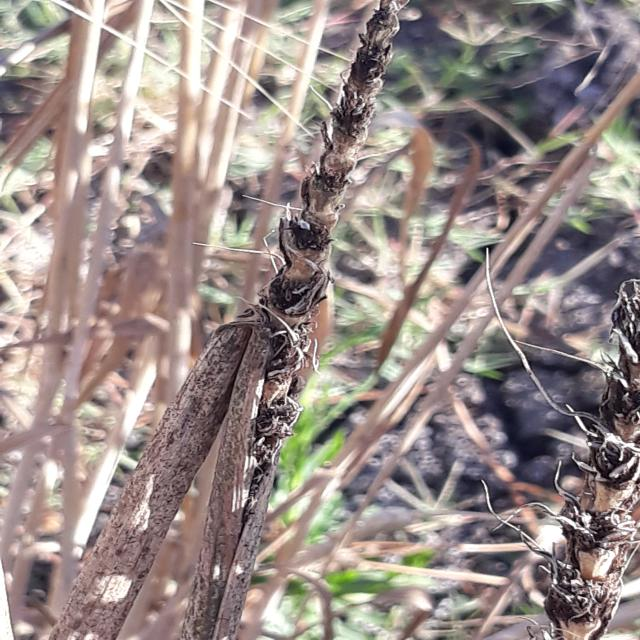loose_charred: (97, 2, 444, 640), (528, 282, 640, 640)
